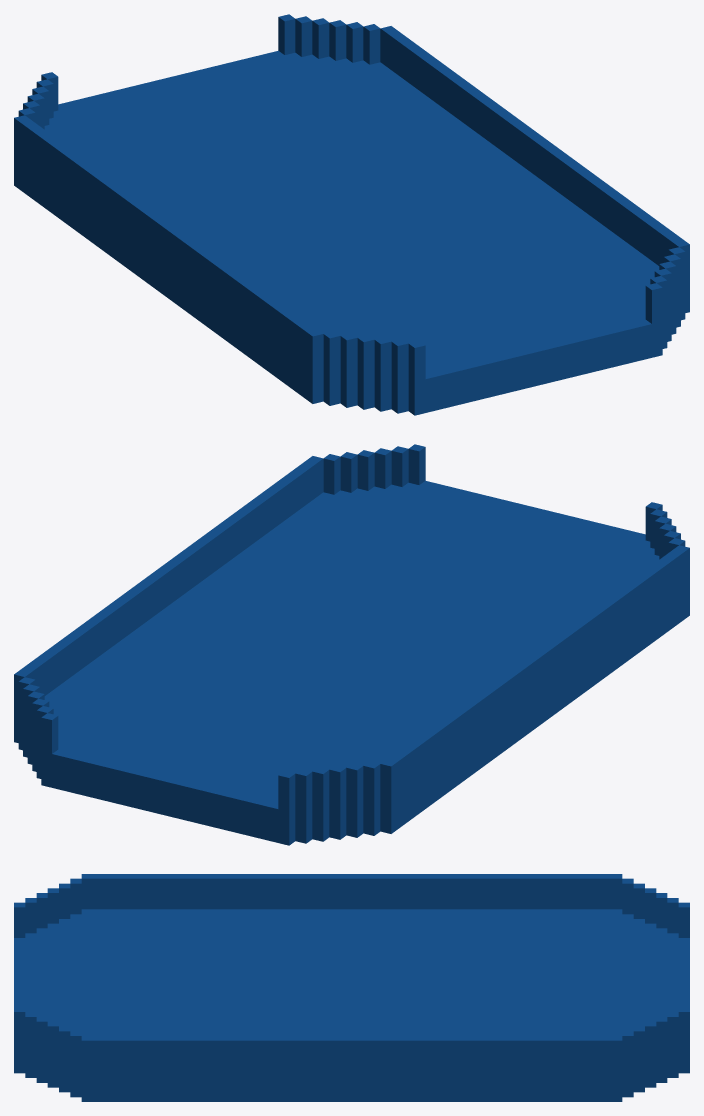
File: edit2.glb
3 views of the same model, one above another, from view 1: azimuth 30°, elevation 25°; view 2: azimuth 150°, elevation 25°; view 3: azimuth 270°, elevation 25° (orthographic). The views are drawn at different scales.
Parts seen in each view (by area): view 1: SPS; view 2: SPS; view 3: SPS.
Boxes of the visible parts, x1,y1,x2,y2 form: SPS: (14,14,689,415); SPS: (14,444,689,845); SPS: (14,874,689,1101).
Bounding box in the file's own units: 35 × 6 × 60.
